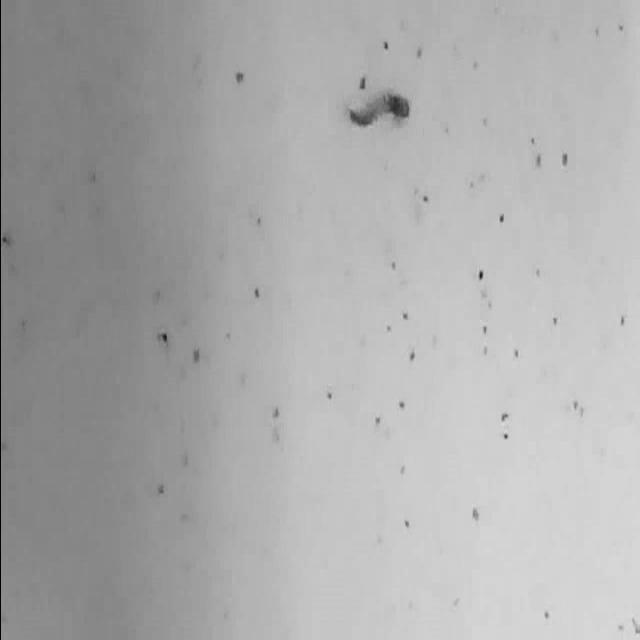larvas: (346, 86, 411, 130)
